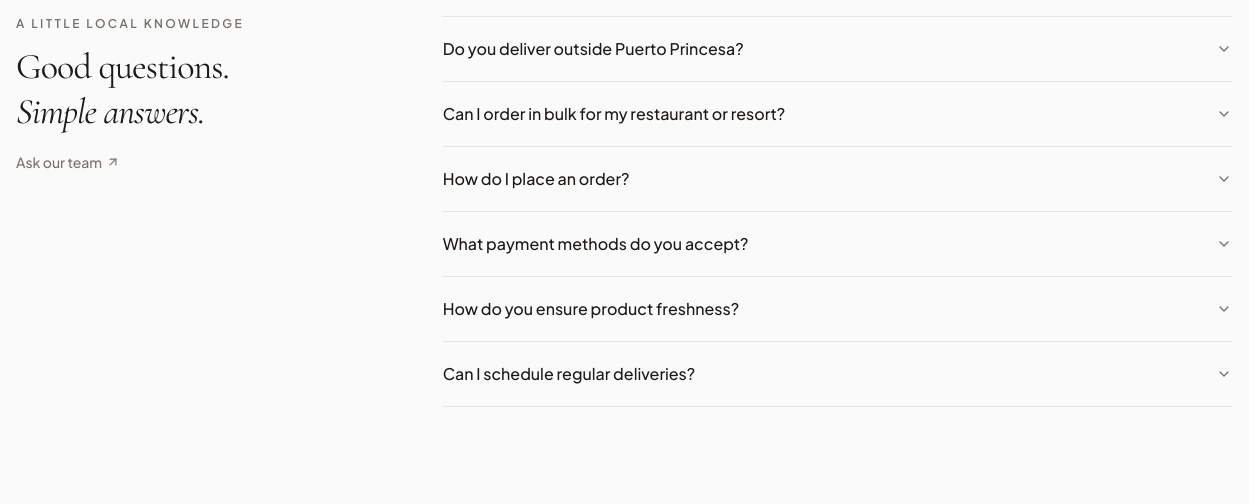
Test: FAQSection Component › expands accordion answer when question is clicked
This screenshot has width=1249, height=504.
Click to expand
Click the button "Do you deliver outside Puerto Princesa?" at (593, 48), box [443,37,1232,61]
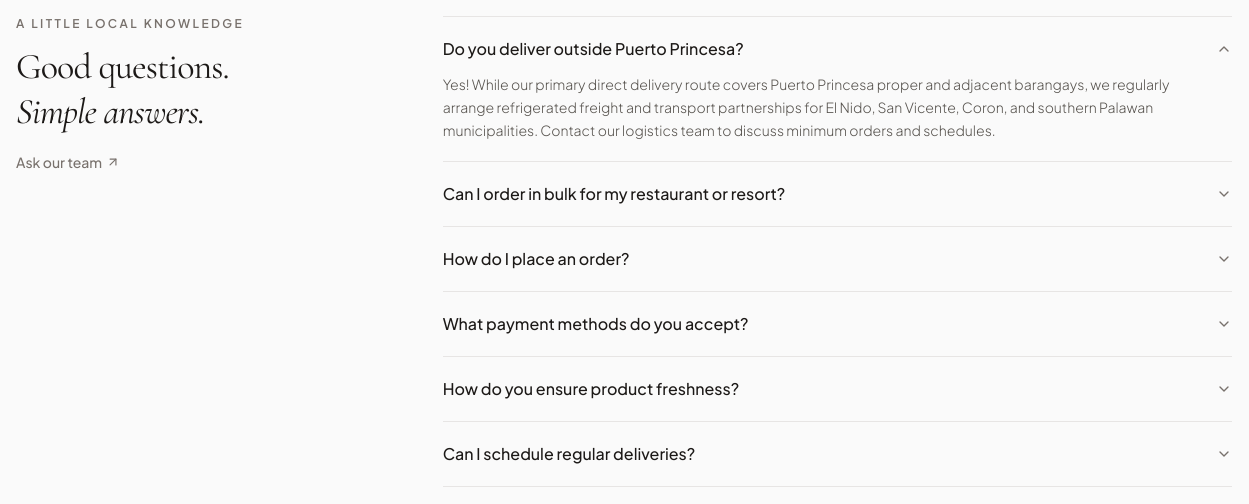
Now the text "primary direct delivery route covers Puerto Princesa proper" is shown, box [443,75,1170,138]
